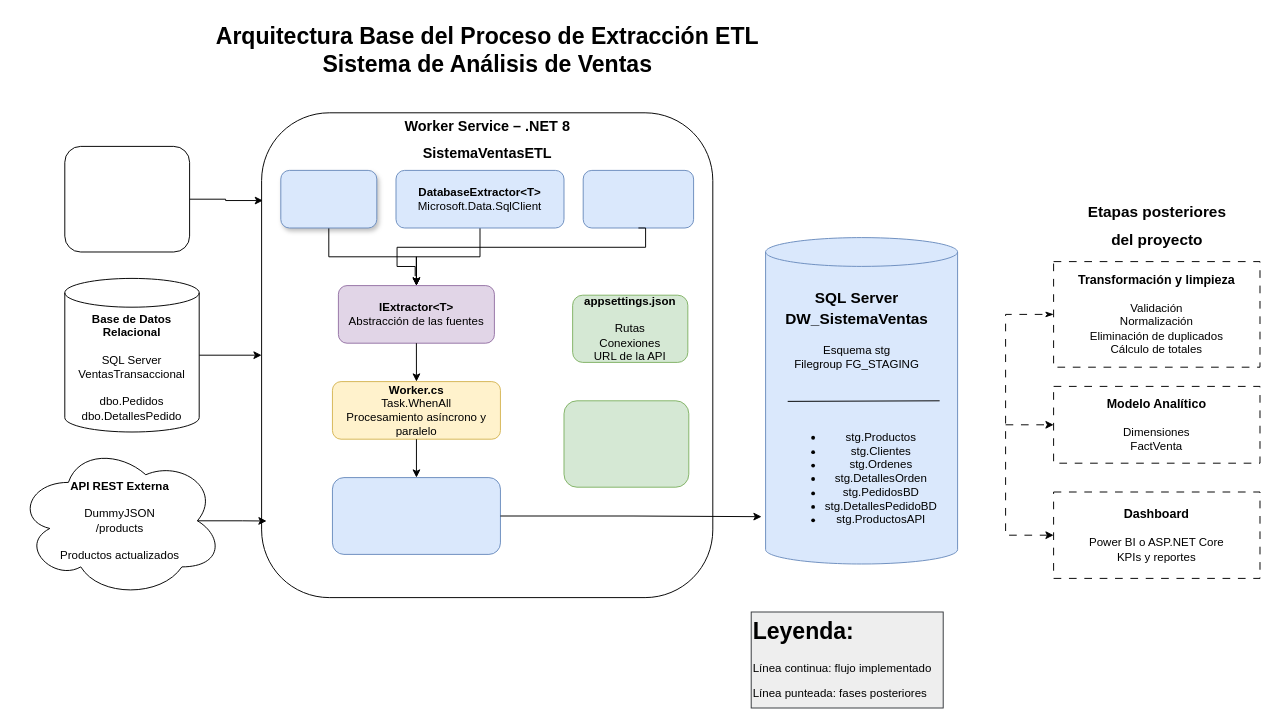
Image size: 1277x727. Some labels were removed from this diagram. Each missing label, with the centre of its shape:
"ApiExtractor IHttpClientFactory" goes at [638,198].
"Archivos CSV products.csv customers.csv orders.csv order_details.csv" goes at [127,198].
"CsvExtractor<T> CsvHelper" goes at [329,200].
"ILogger + Stopwatch Logs Errores Métricas de rendimiento" goes at [626,443].
"StagingWriter SqlBulkCopy Carga masiva" goes at [415,515].
